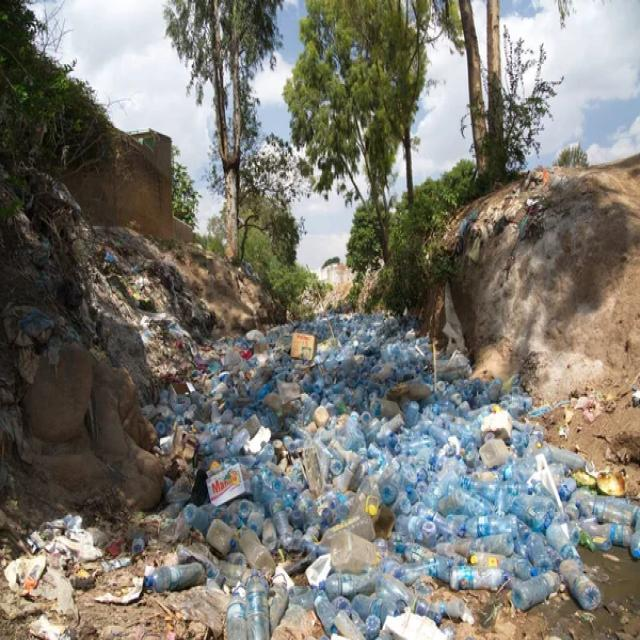garbage: (118, 273, 638, 640)
